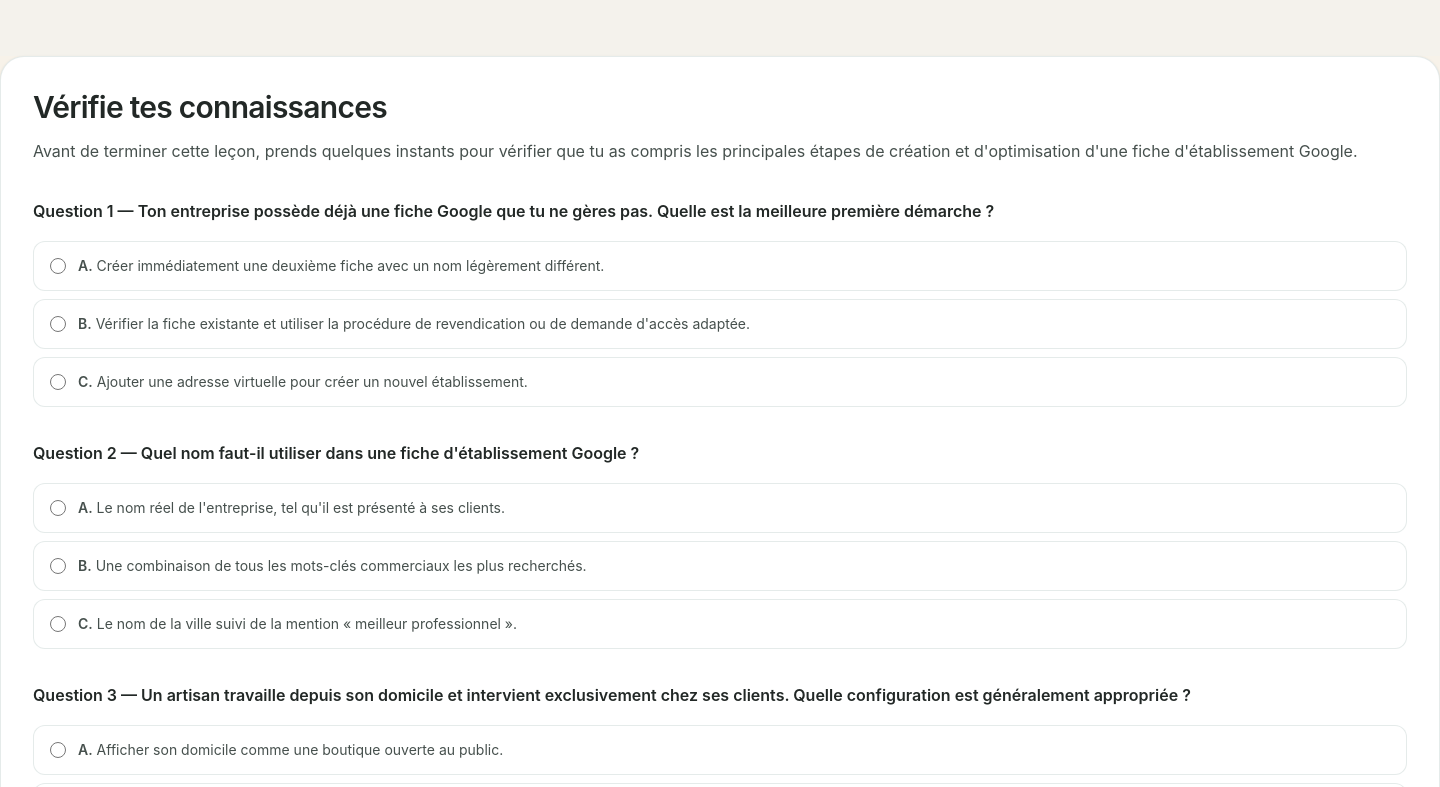
it: questionnaire de la vingt-quatrième leçon SEO › corrige les quatre réponses après validation
Expected: the text "Question 4 : B." is not shown
Click the radio button named "quiz-question-1". click: (58,324)
box: [50,316,66,332]
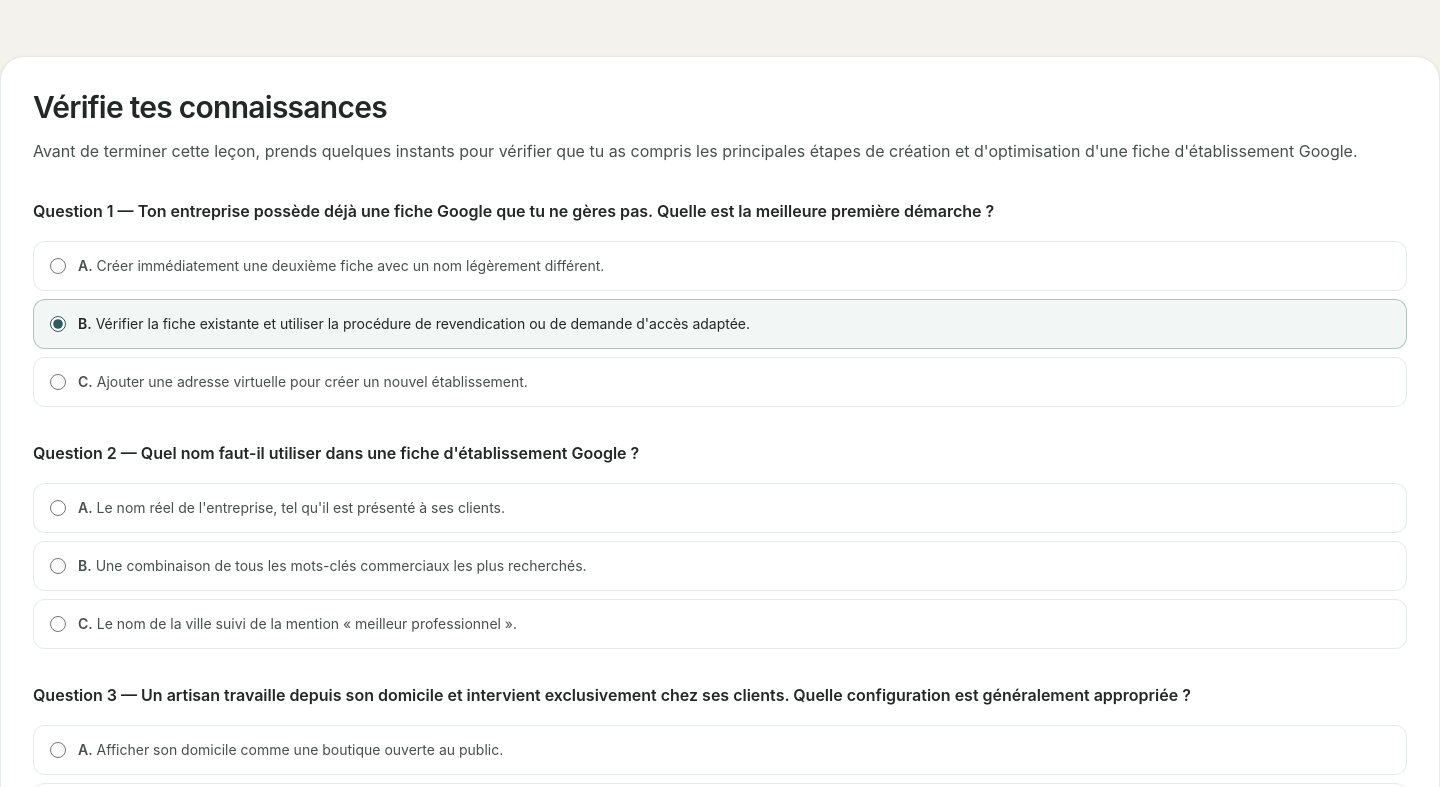
Click the radio button named "quiz-question-2". click: (58,508)
box: [50,500,66,516]
(page scrolled)
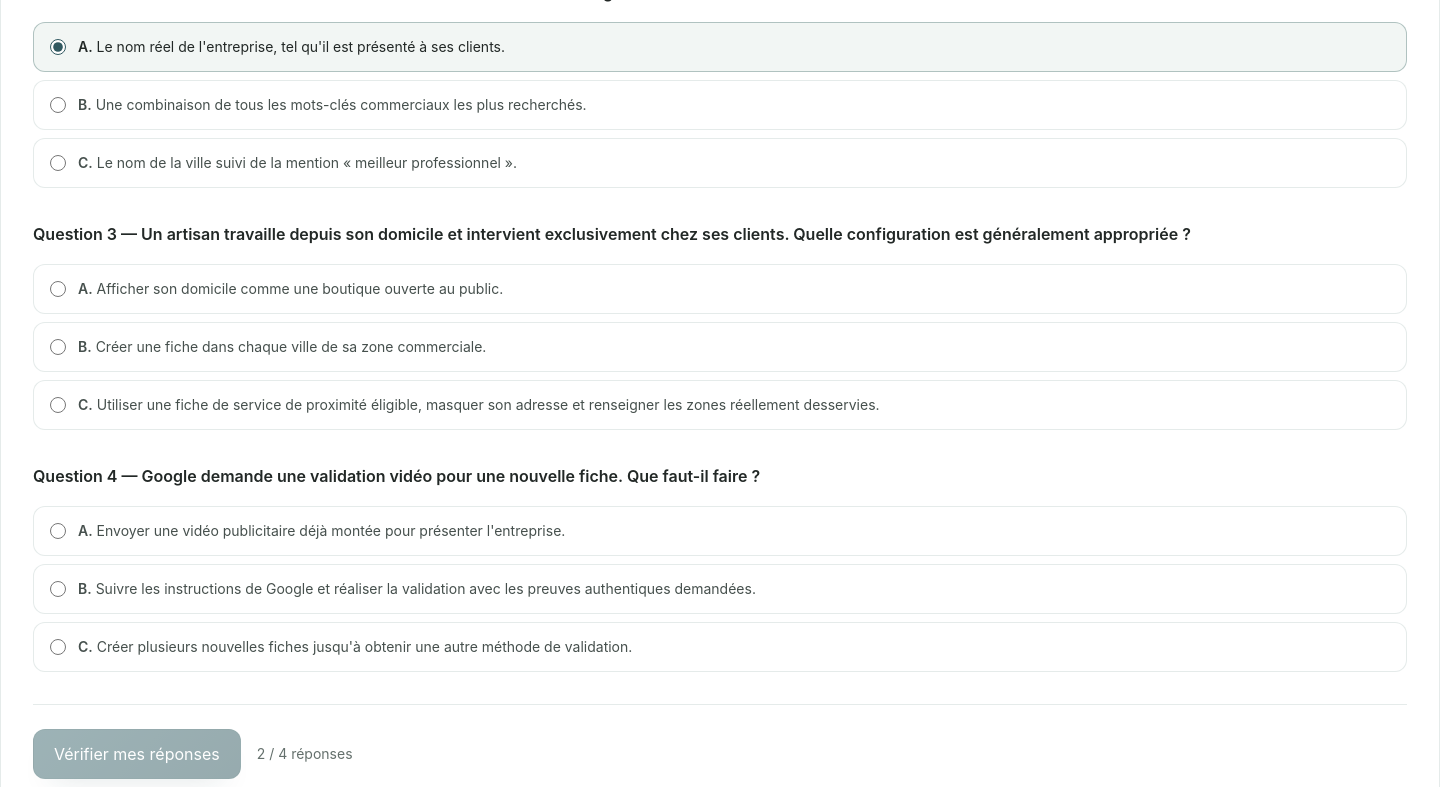
Click the radio button named "quiz-question-3". click: (58,405)
box: [50,397,66,413]
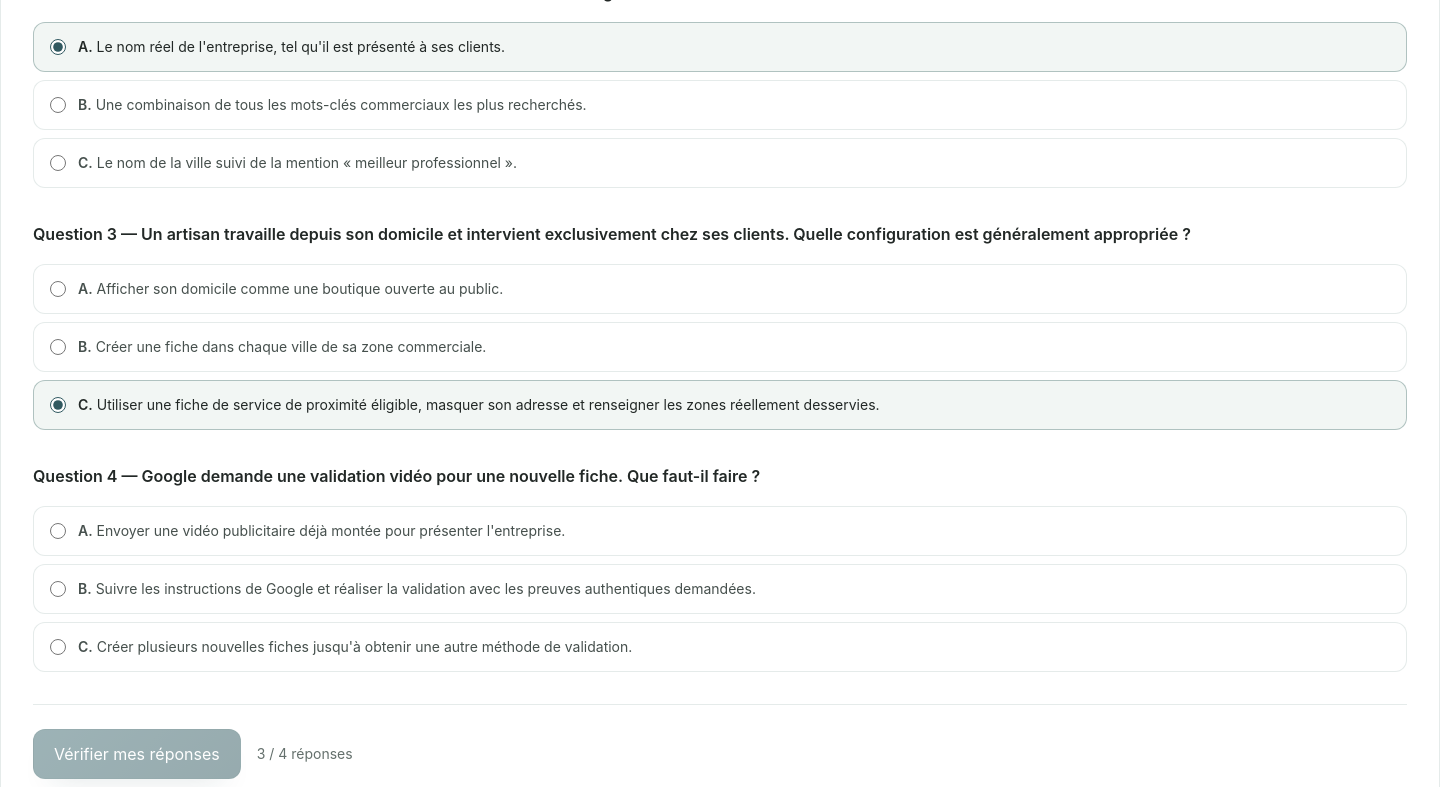
Click the radio button named "quiz-question-4". click: (58,589)
box: [50,581,66,597]
(page scrolled)
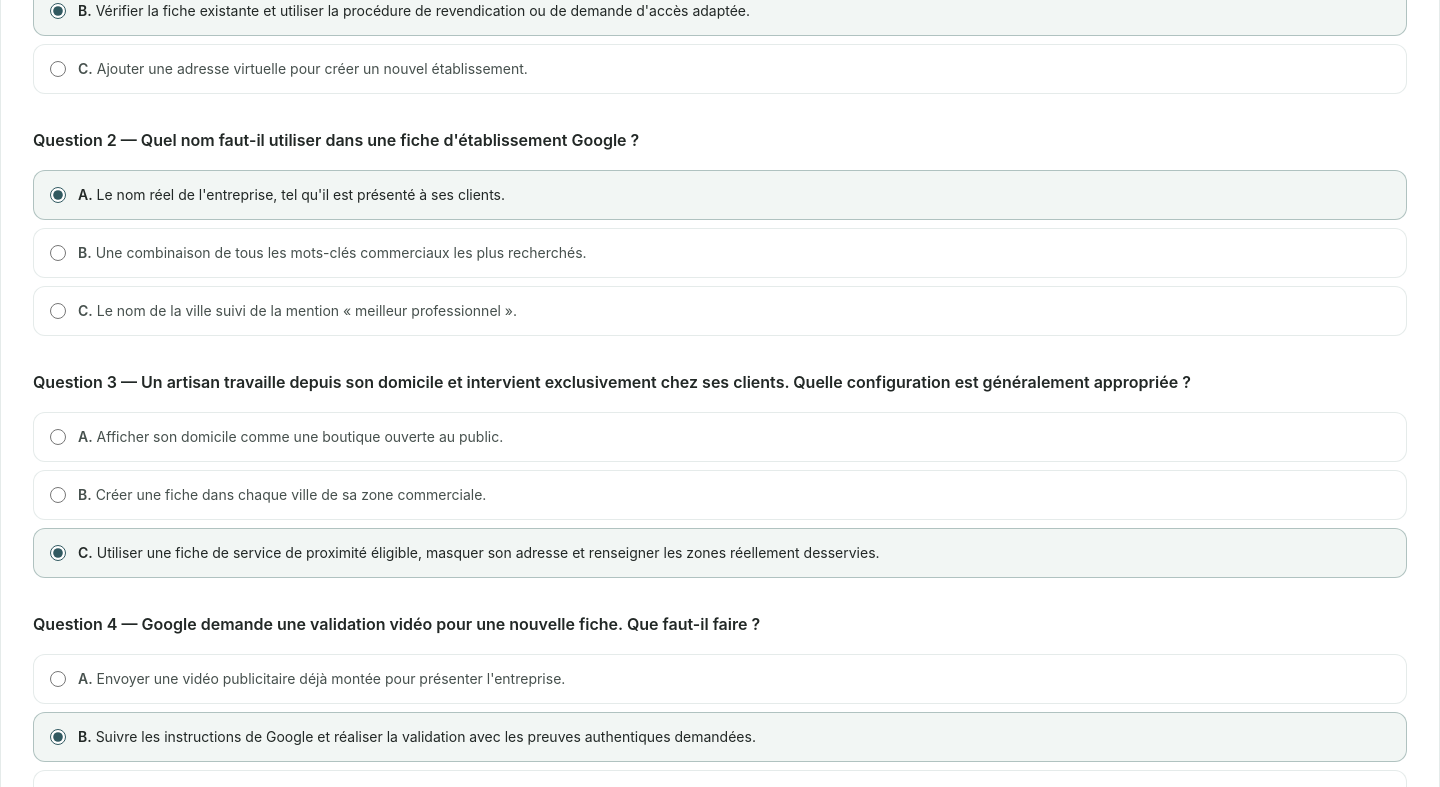
Submit the form
(page scrolled)
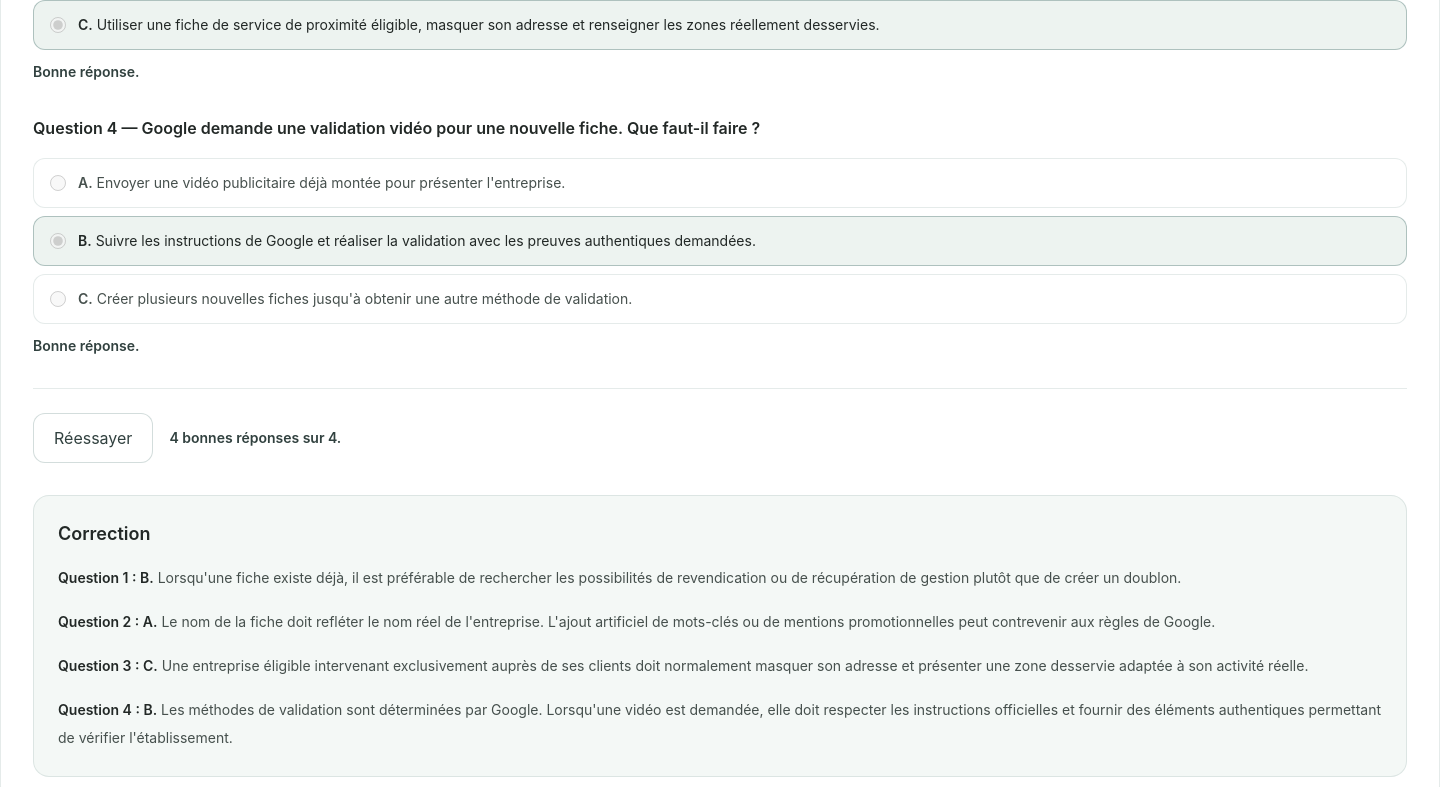
Expected: the text "preuves authentiques" is shown, [92,232,756,249]
Result: the message "4 bonnes réponses sur 4." is shown at [169,428,341,448]
Result: the text "Question 4 : B." is shown at [58,701,157,718]
